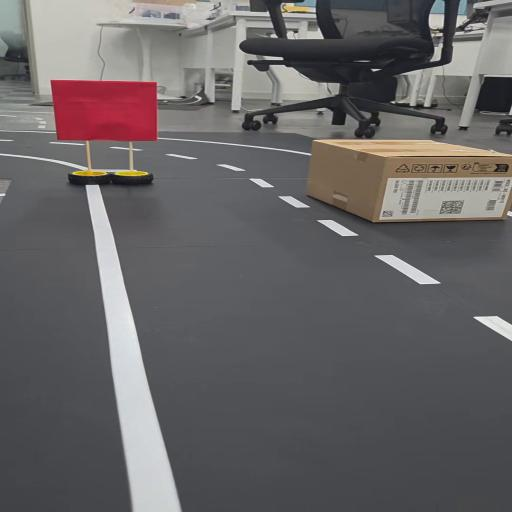Box: (308, 134, 512, 230)
Sign_A: (48, 75, 172, 195)
